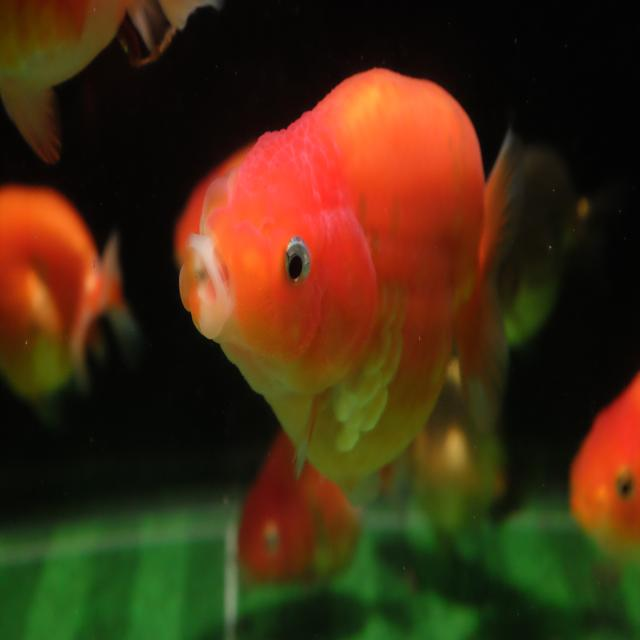Tilapia: (177, 66, 527, 512), (0, 182, 138, 429), (567, 374, 640, 566)
